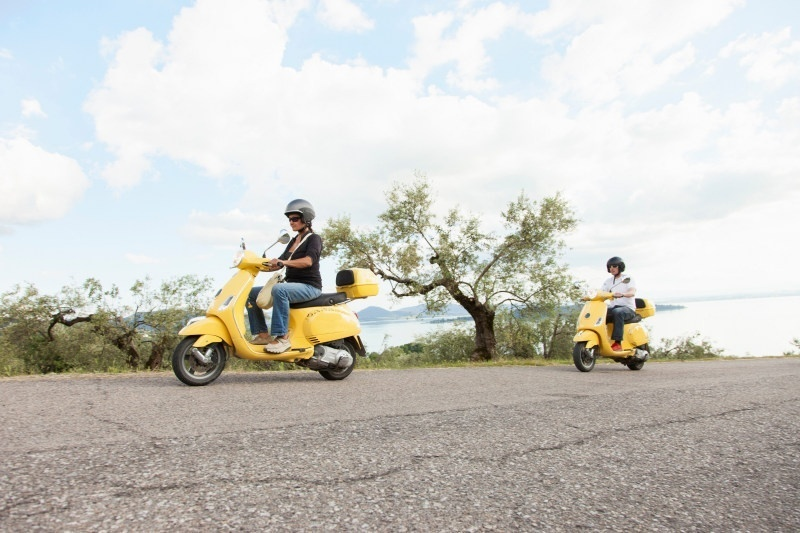non-vehicle: (177, 247, 372, 386), (573, 289, 651, 368)
